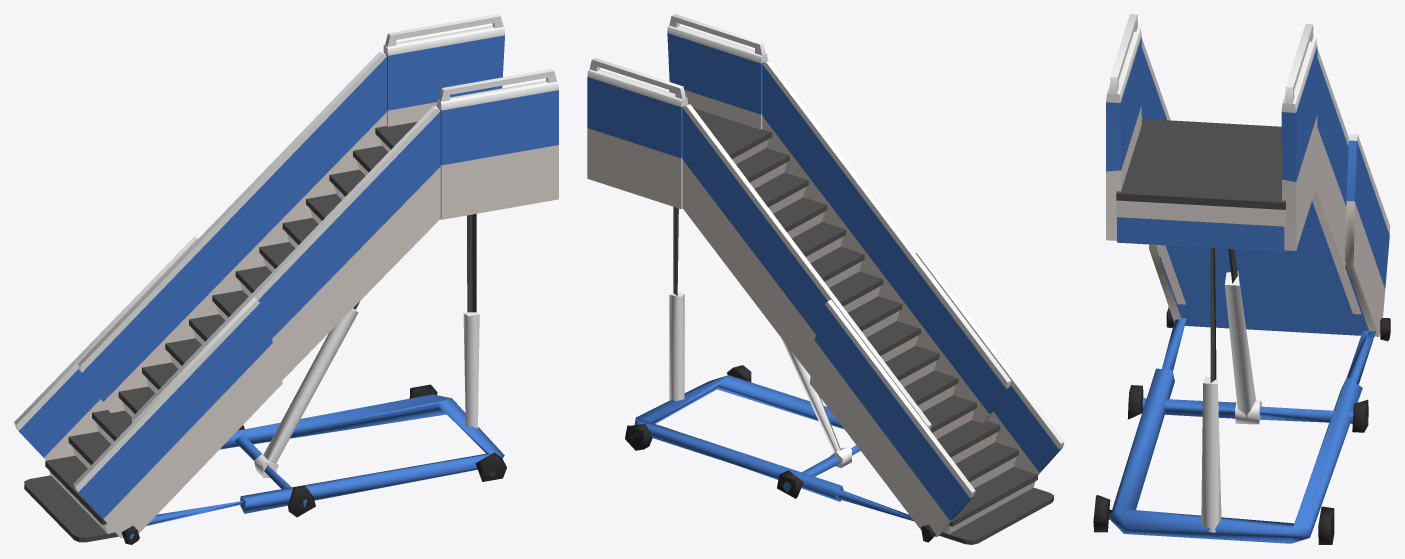
Rendered from escalier_bs.glb.
3 renders of one model, left to right at view 1: azimuth 30°, elevation 25°; view 2: azimuth 150°, elevation 25°; view 3: azimuth 270°, elevation 25°, orthographic. The views are drawn at different scales.
Parts seen in each view (by area): view 1: 03.AirplaneStairs_AIRPORT_0; view 2: 03.AirplaneStairs_AIRPORT_0; view 3: 03.AirplaneStairs_AIRPORT_0.
Part boxes in pixels (x1,y1,x2,y2): 03.AirplaneStairs_AIRPORT_0: (14, 14, 558, 544); 03.AirplaneStairs_AIRPORT_0: (587, 14, 1064, 544); 03.AirplaneStairs_AIRPORT_0: (1093, 14, 1390, 544).
Size of the model in its own units: 9.88 by 7.92 by 4.3.
Materials: 1 (1 with a texture image).
